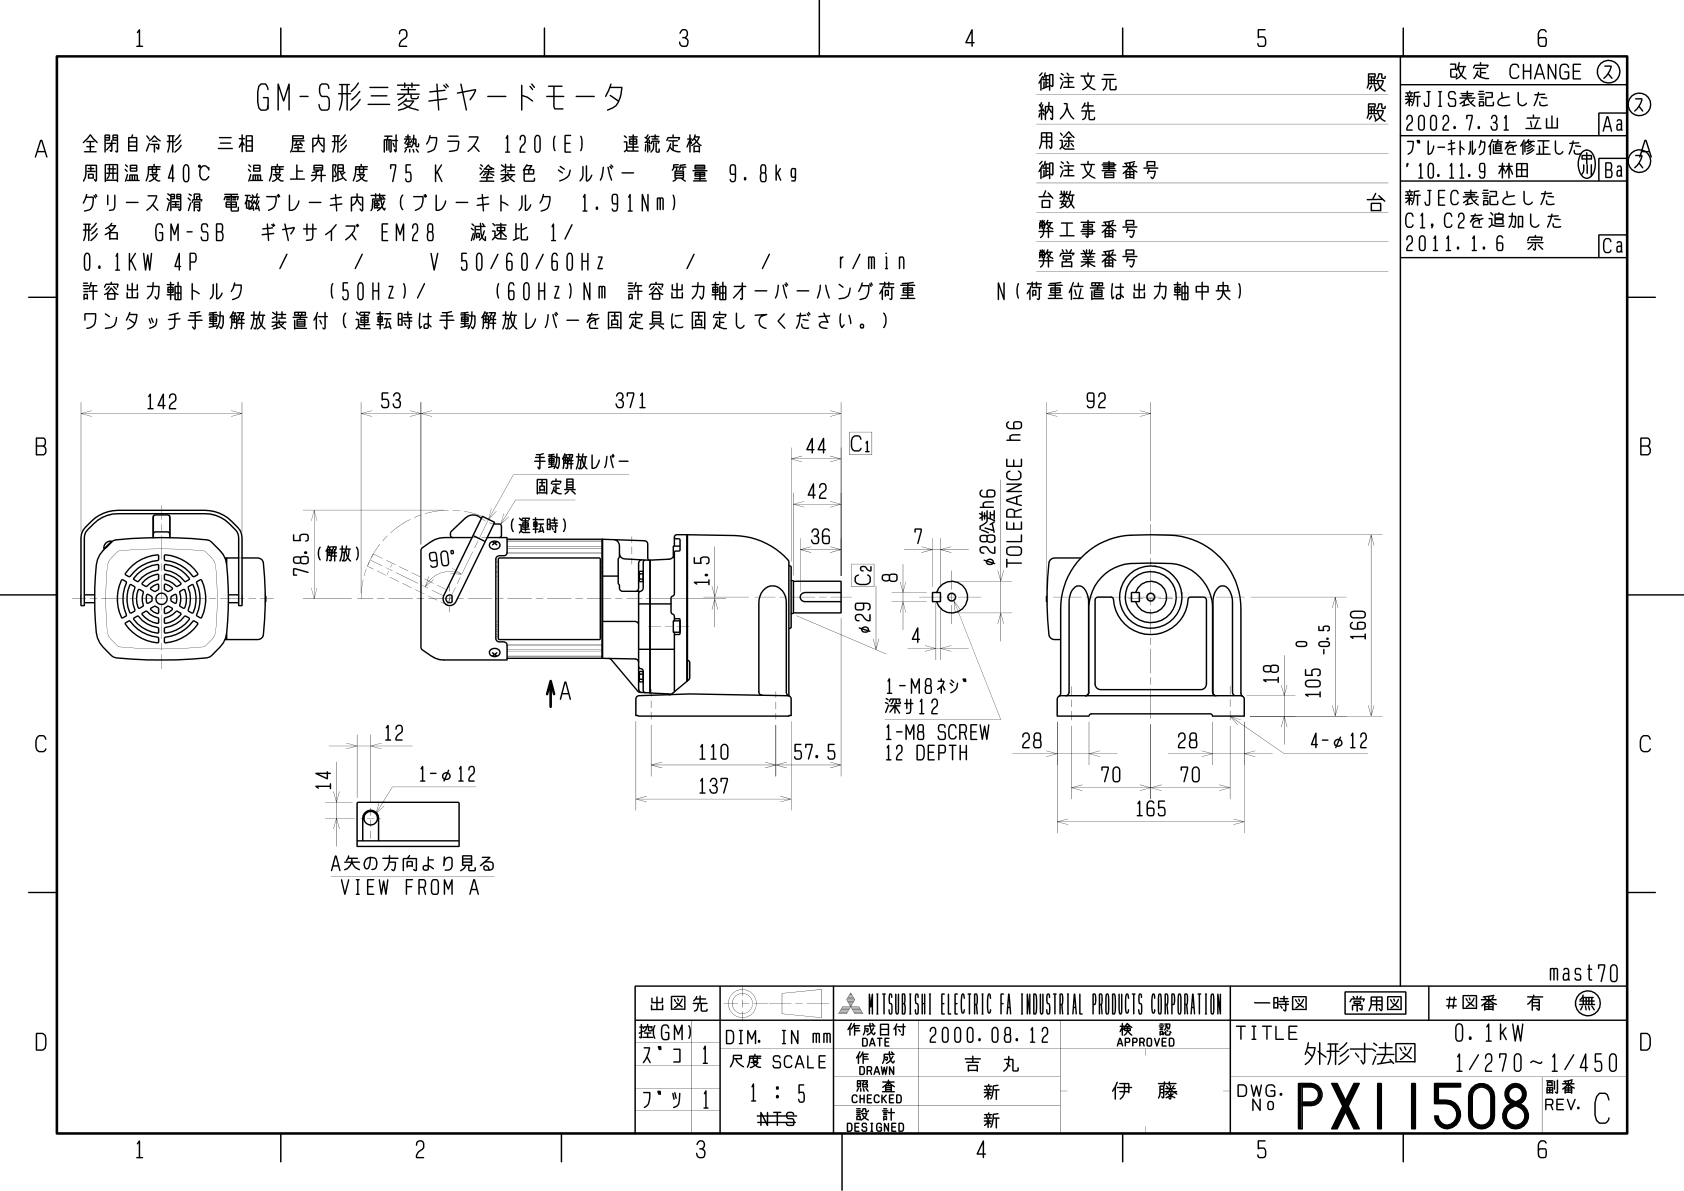GM_S_手動ブレーキ＿三相_脚: (73, 365, 1386, 949)
